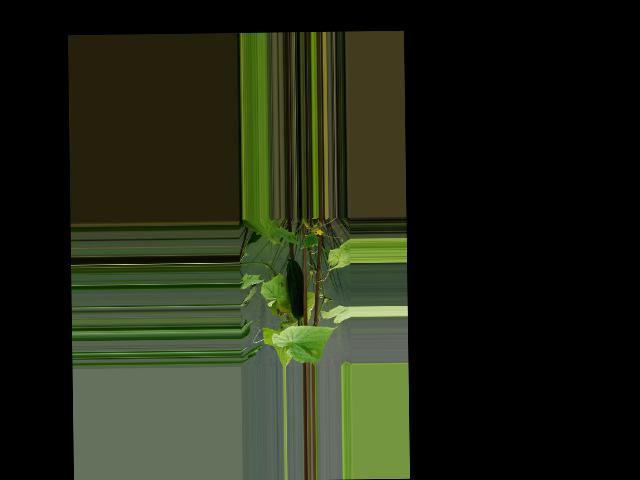cucumber: (286, 259, 304, 319)
